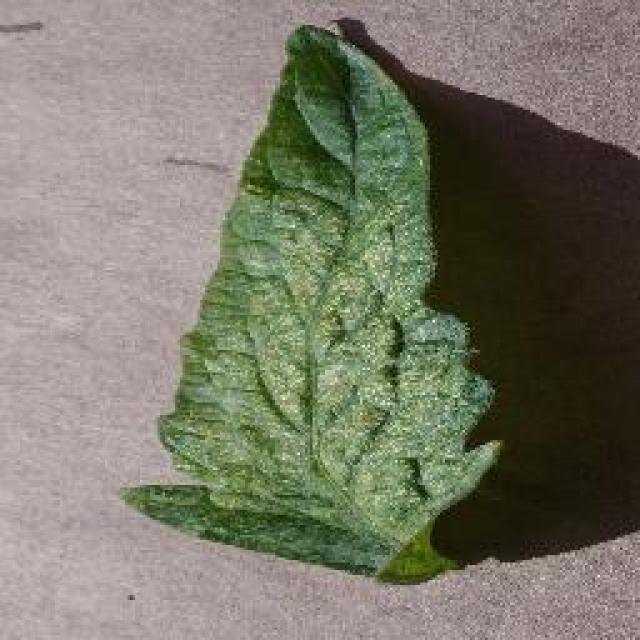Tomato mosaic virus leaf: (109, 26, 511, 582)
